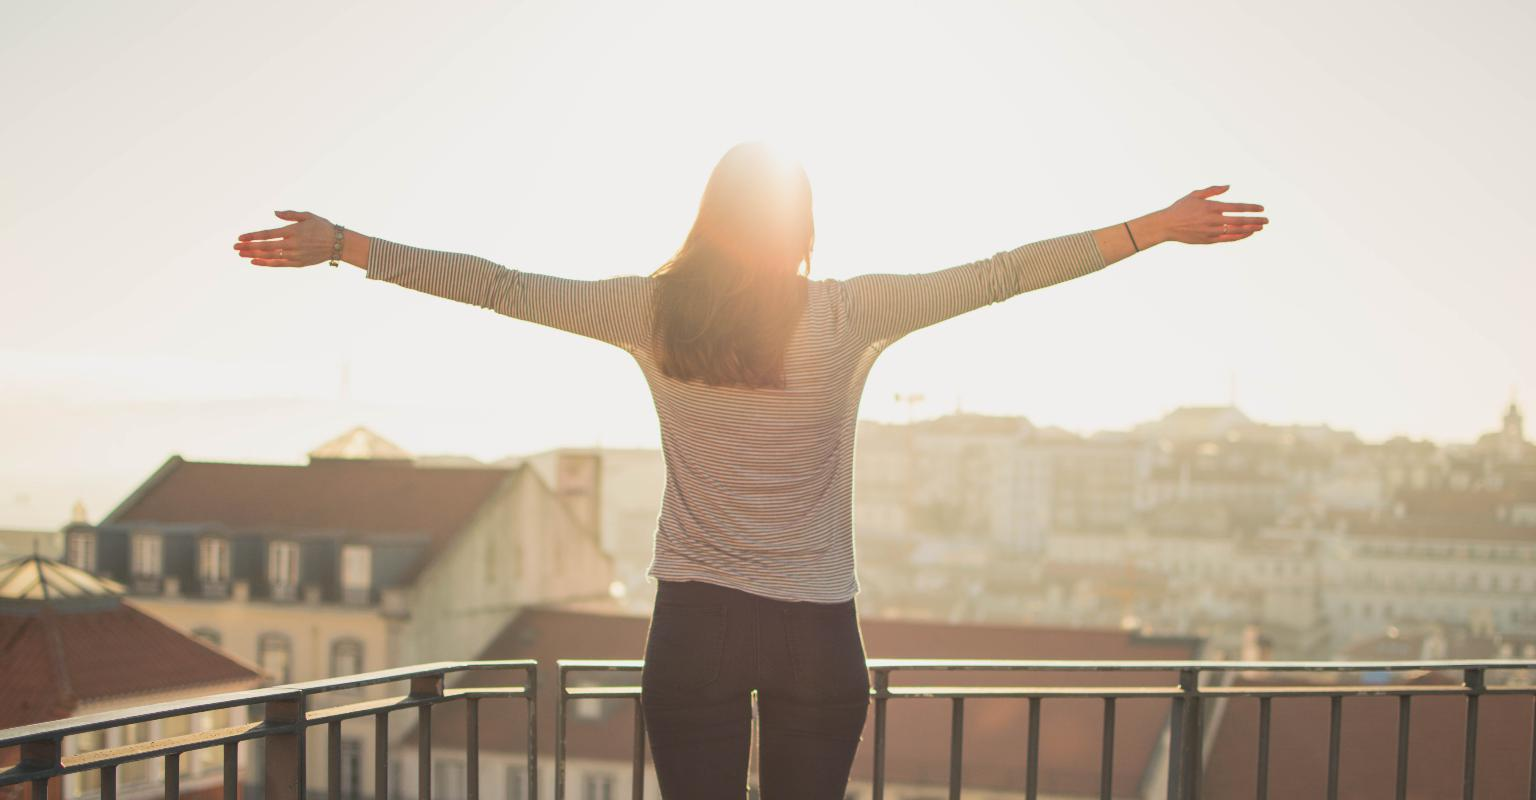Person: (216, 138, 1276, 800)
